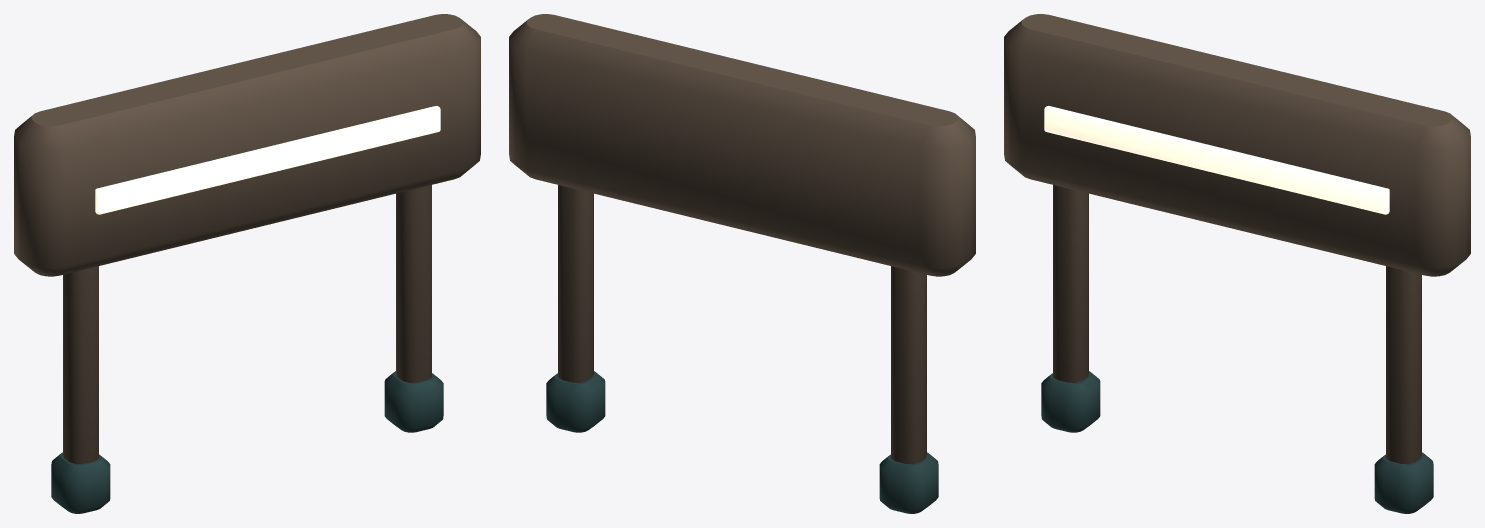
The model's file is truck_park_works_4.glb.
3 renders of one model, left to right at view 1: azimuth 30°, elevation 25°; view 2: azimuth 150°, elevation 25°; view 3: azimuth 330°, elevation 25°, orthographic.
Visible parts, largest first — view 1: TruckParkWorks4; view 2: TruckParkWorks4; view 3: TruckParkWorks4.
Boxes of the visible parts, box(x1,y1,x2,y2) form: TruckParkWorks4: box(14, 14, 480, 513); TruckParkWorks4: box(509, 14, 975, 513); TruckParkWorks4: box(1004, 14, 1470, 513).
Bounding box in the file's own units: 1.78 × 1.48 × 0.277.
